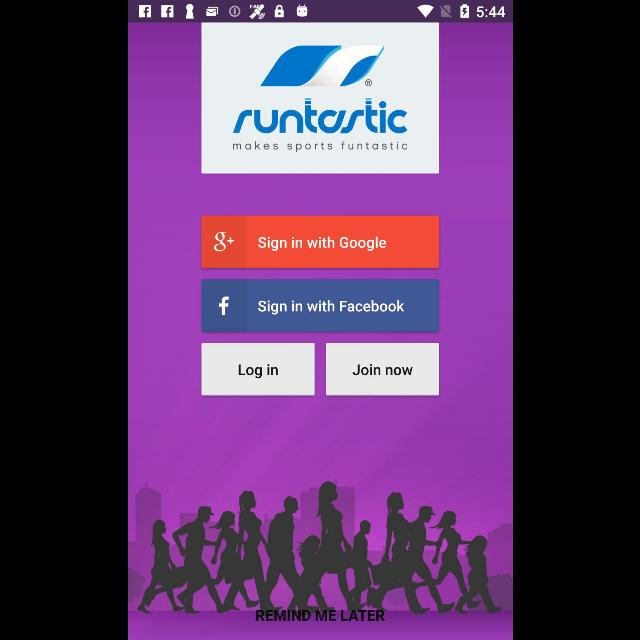image: (128, 476, 512, 640), (202, 23, 438, 173)
text: (256, 609, 384, 621)
textbutton: (201, 280, 439, 332), (201, 216, 439, 268), (326, 342, 438, 396), (200, 343, 314, 395)
uppertaskbar: (128, 1, 512, 23)
